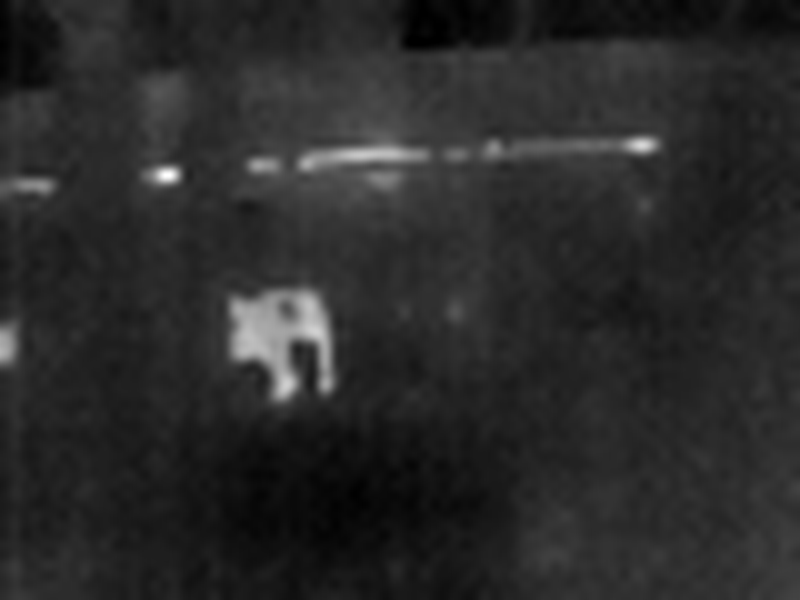elephant: (188, 292, 356, 408)
